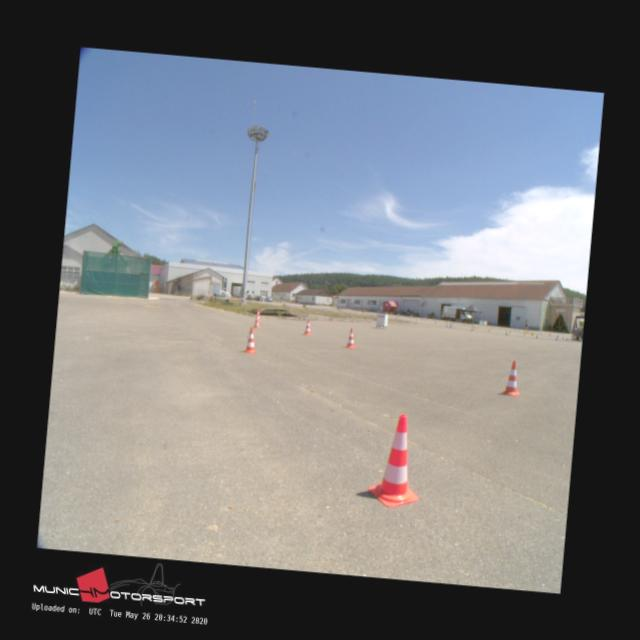large_orange_cone: (367, 412, 424, 508), (501, 360, 522, 396), (243, 326, 258, 353), (344, 327, 356, 347), (302, 318, 312, 334), (252, 313, 261, 328), (256, 308, 261, 321)
